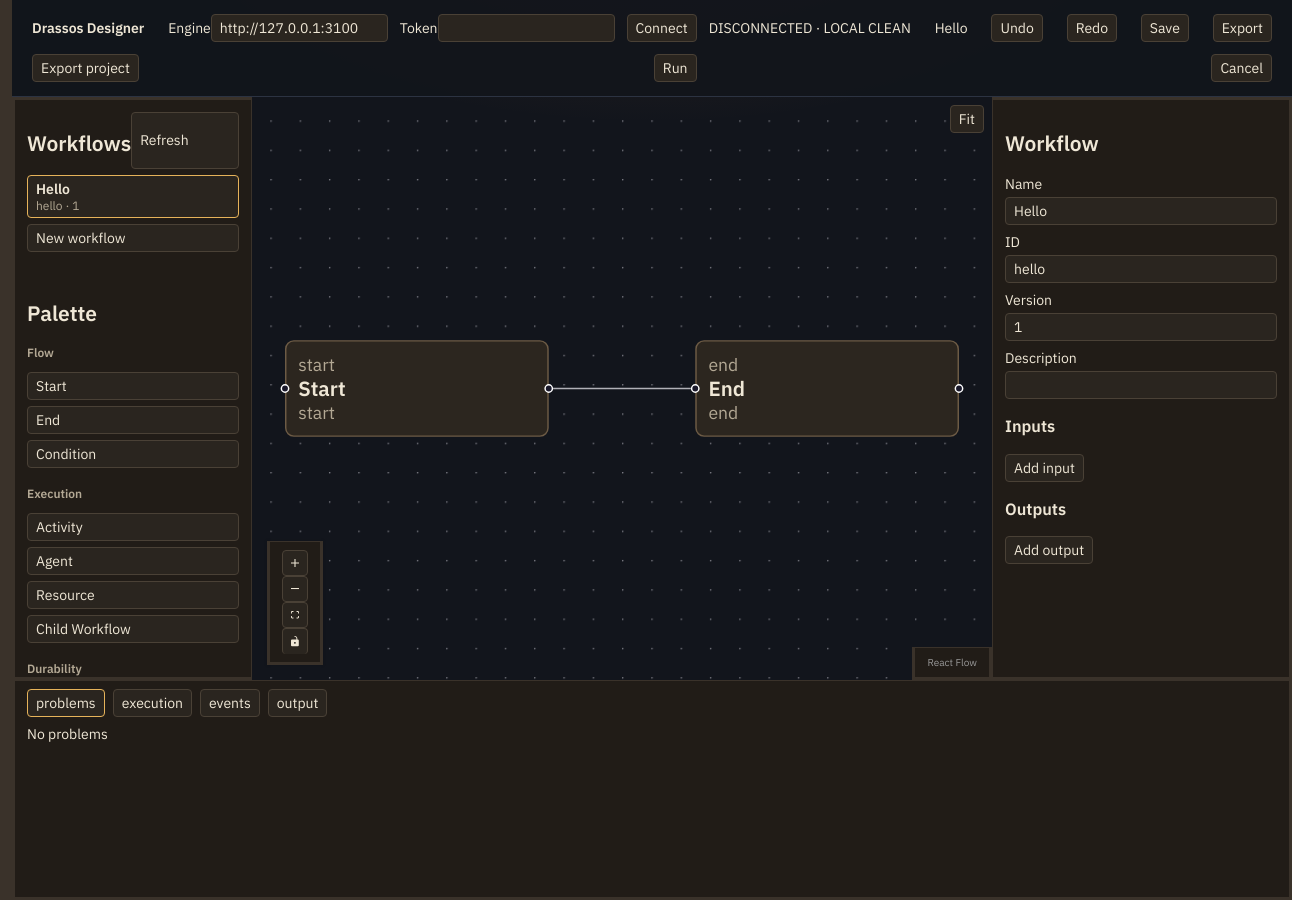
Test: workflow save revisions › does not save an unchanged workflow whose server revision is not a content hash
Expected: the field showing "Hello" is shown, [1005,197,1277,225]
Click the button "Run" at (675,68), box [654,54,697,82]
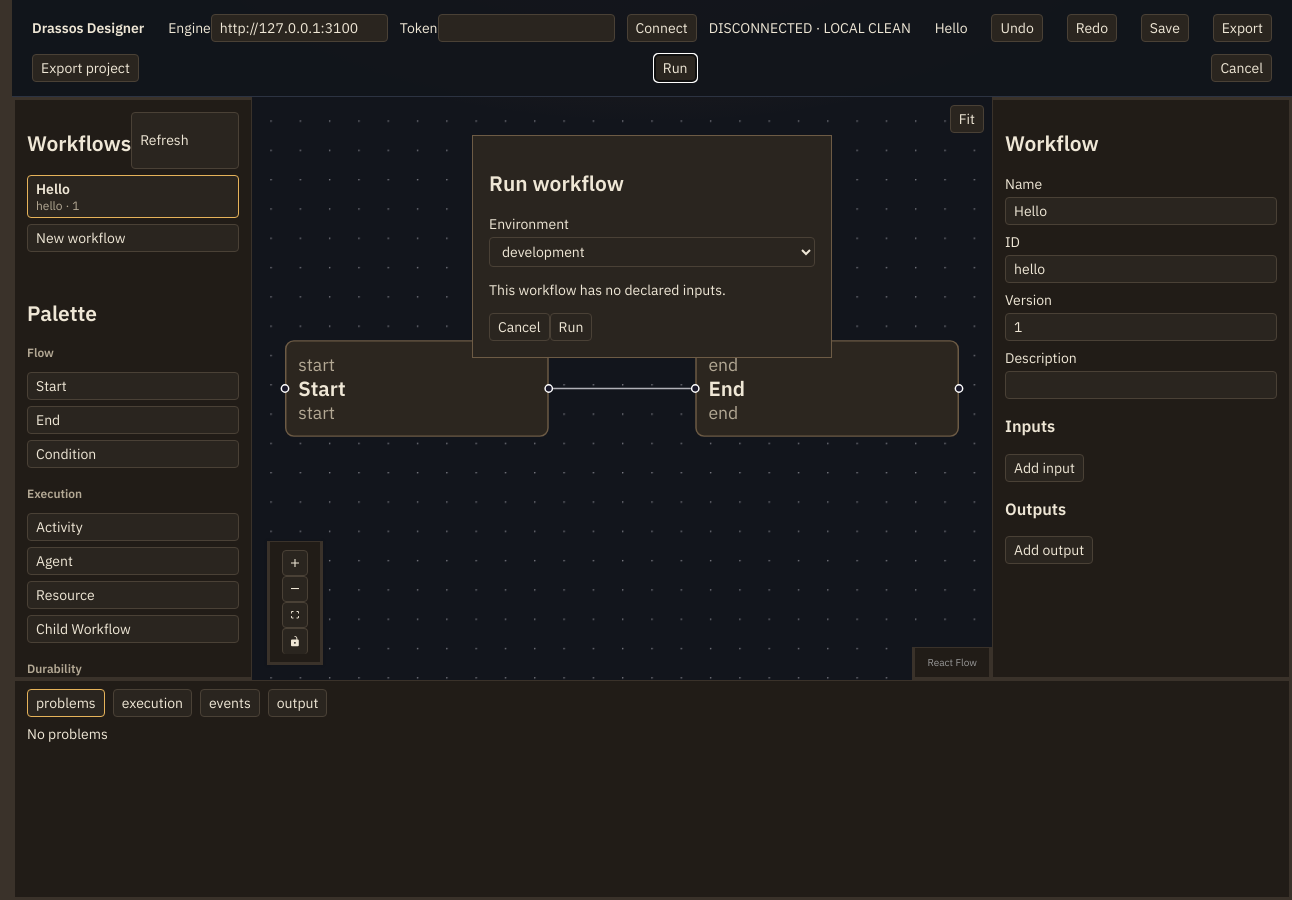
Click the button "Run" below "This workflow has no declared inputs." at (571,327), box [550,313,592,341]
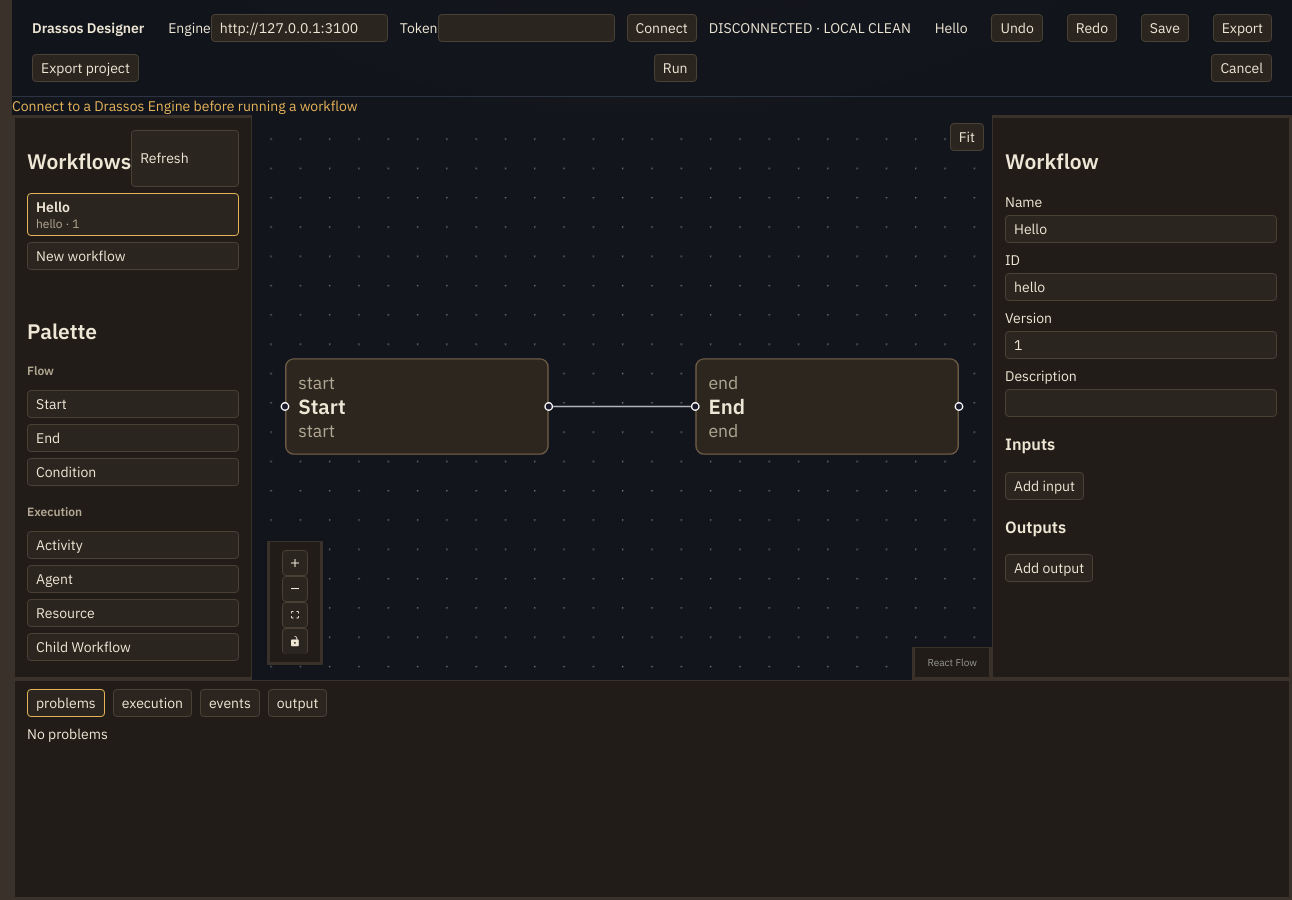
Expected: the text "Connect to a Drassos Engine before running a workflow" is shown, [12,97,358,115]
